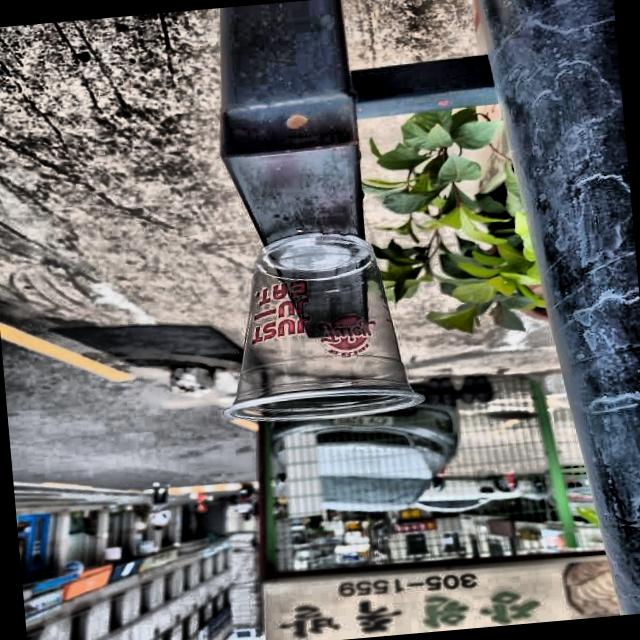plastic cup: (204, 216, 433, 435)
